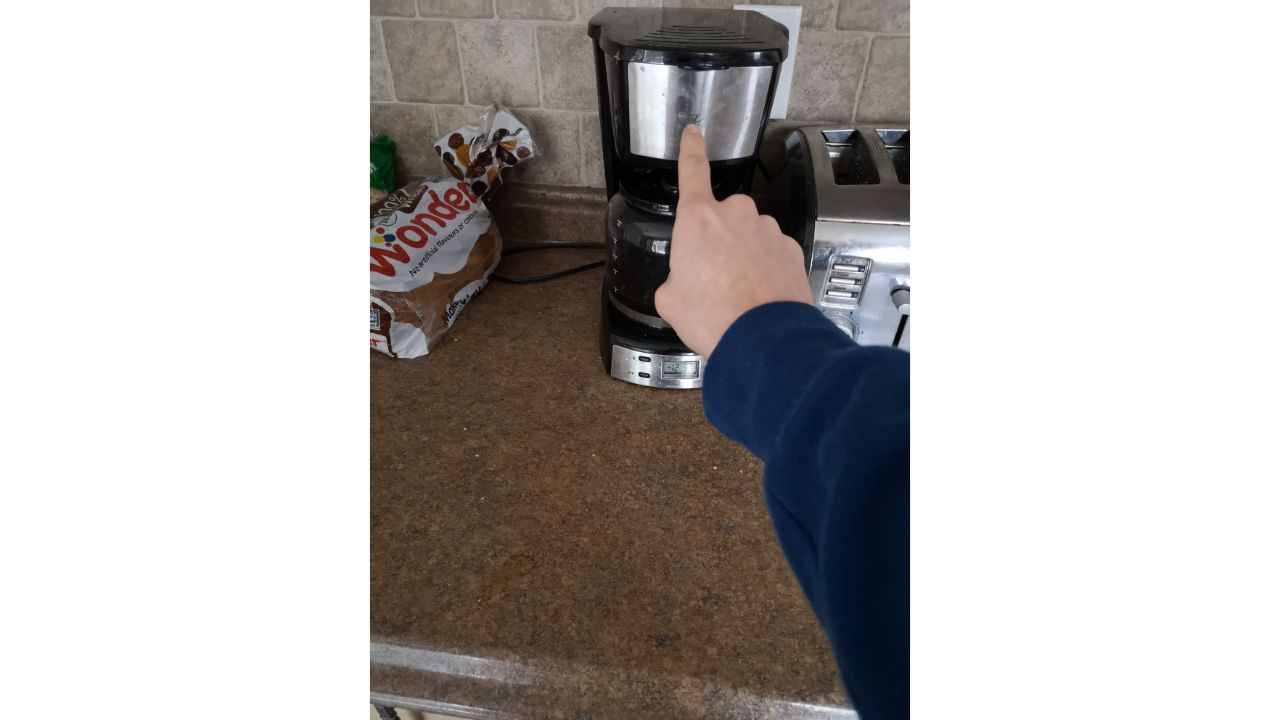finger: (652, 117, 819, 385)
